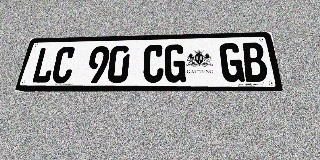0: (106, 45, 130, 83)
9: (85, 46, 111, 83)
B: (241, 42, 269, 82)
C: (50, 47, 77, 83), (142, 45, 164, 83)
G: (219, 43, 245, 82), (164, 44, 186, 83)
L: (30, 47, 58, 83)
